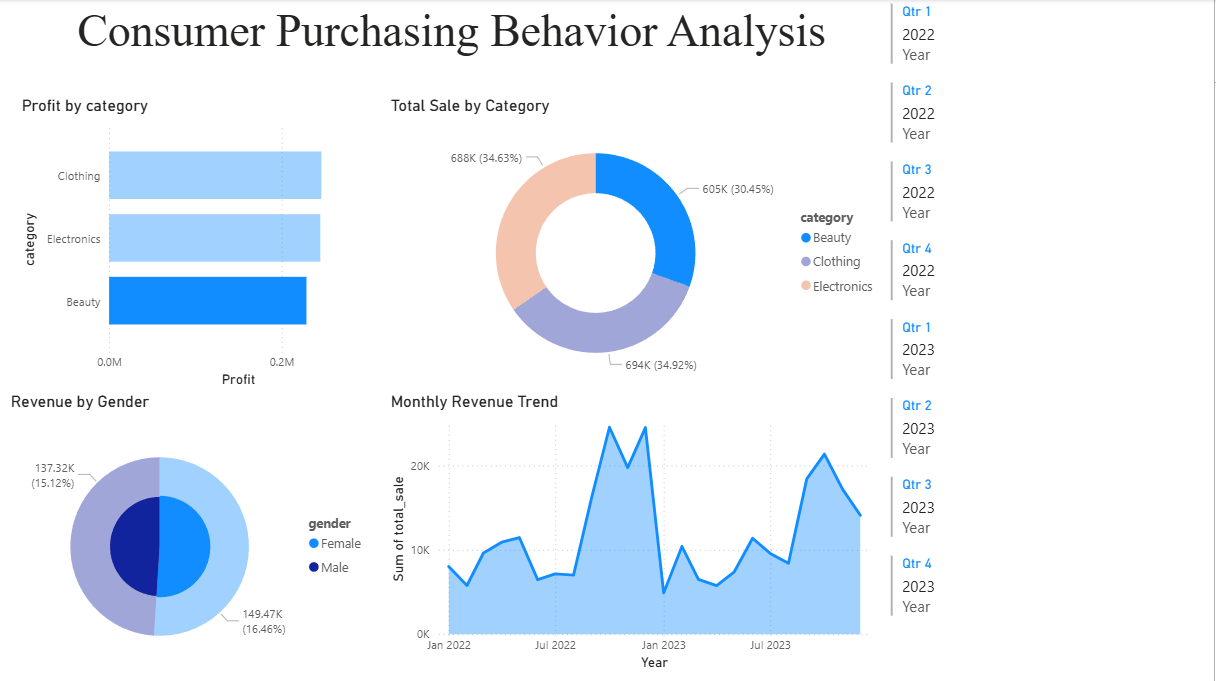

What the dashboard file says about the page in this screenshot:
{"tool":"powerbi","page":{"name":"Page 1","canvas":[1280,720],"ordinal":0},"visuals":[{"type":"clusteredBarChart","fields":{"Category":["sql_project_p1 retail_sales.category"],"Y":["sql_project_p1 retail_sales.Profit"]},"box":[20,102.1,388.4,311.6],"z":0},{"type":"pieChart","title":"Revenue by Gender","fields":{"Y":["Sum(sql_project_p1 retail_sales.total_sale)"],"Category":["sql_project_p1 retail_sales.gender"]},"box":[8.4,413.7,388.4,306.3],"z":1000},{"type":"donutChart","title":"Total Sale by Category","fields":{"Y":["Sum(sql_project_p1 retail_sales.transaction_id)"],"Series":["sql_project_p1 retail_sales.category"]},"box":[408.4,102.1,526.3,311.6],"z":2000},{"type":"multiRowCard","fields":{"Values":["sql_project_p1 retail_sales.sale_date.Variation.Date Hierarchy.Year","sql_project_p1 retail_sales.sale_date.Variation.Date Hierarchy.Quarter"]},"box":[934.7,0,315.8,720],"z":3000},{"type":"areaChart","title":"Monthly Revenue Trend","fields":{"Category":["sql_project_p1 retail_sales.sale_date.Variation.Date Hierarchy.Year","sql_project_p1 retail_sales.sale_date.Variation.Date Hierarchy.Month"],"Y":["Avg(sql_project_p1 retail_sales.total_sale)"]},"box":[408.4,413.7,526.3,297.9],"z":4000},{"type":"textbox","box":[20,0,914.7,102.1],"z":5000}]}

Visuals, with their boxes in screenshot pixels (x1, y1, x2, y2), scaled from the page's 1280x720 canvas onto the 1216x681 screenshot:
clusteredBarChart - sql_project_p1 retail_sales.category x sql_project_p1 retail_sales.Profit: 19:97:388:391
"Revenue by Gender" pieChart: 8:391:377:680
"Total Sale by Category" donutChart: 388:97:888:391
multiRowCard - sql_project_p1 retail_sales.sale_date.Variation.Date Hierarchy.Year x sql_project_p1 retail_sales.sale_date.Variation.Date Hierarchy.Quarter: 888:0:1188:680
"Monthly Revenue Trend" areaChart: 388:391:888:673
textbox: 19:0:888:97
